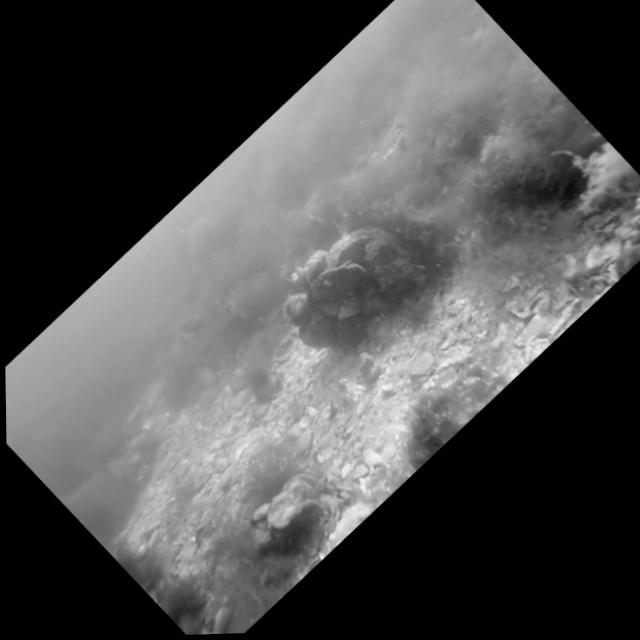Oyster-Closed: (307, 260, 371, 298), (325, 228, 372, 266), (304, 253, 329, 282)
Oyster-Indeterminate: (337, 304, 361, 321)
